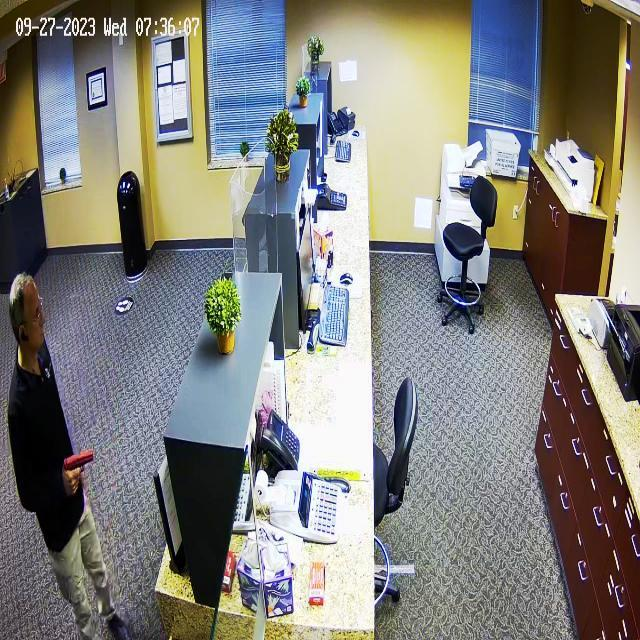Gun: (55, 445, 107, 488)
